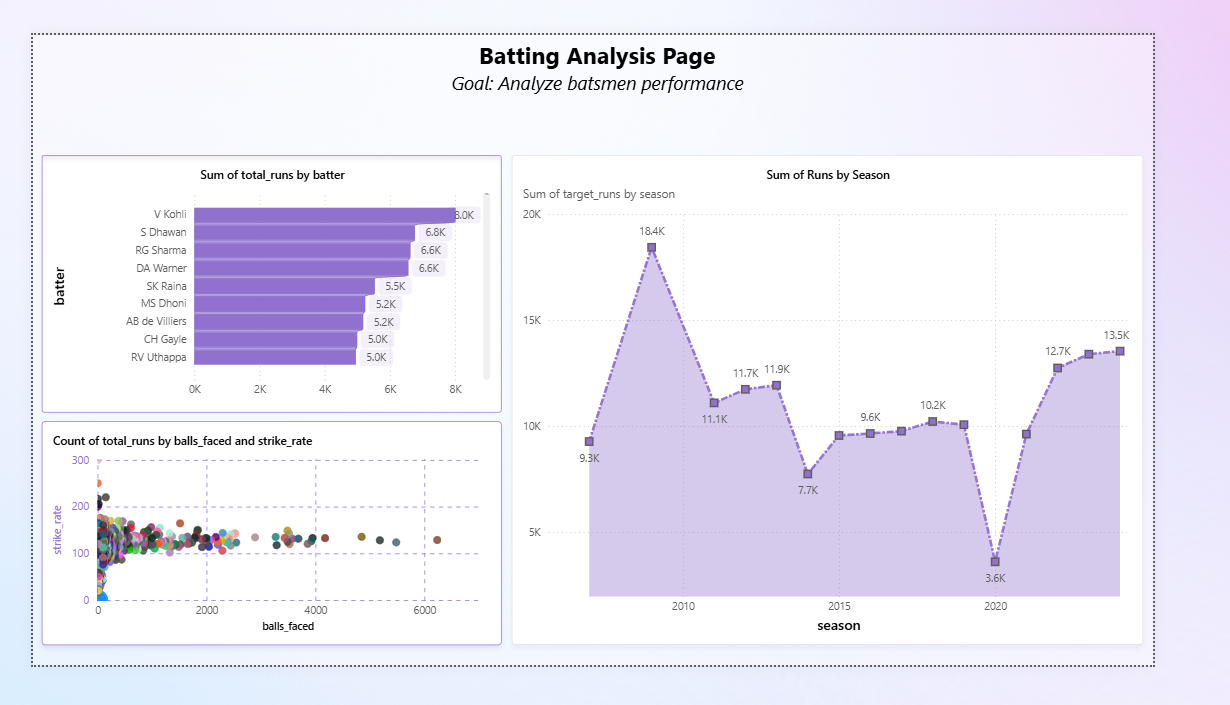

What the dashboard file says about the page in this screenshot:
{"tool":"powerbi","page":{"name":"Page 2","canvas":[1280,720],"ordinal":1},"visuals":[{"type":"textbox","box":[10,0,1270,117.1],"z":0},{"type":"barChart","fields":{"Category":["ipl_analytics batting_stats.batter"],"Y":["Sum(ipl_analytics batting_stats.total_runs)"]},"box":[10,137.1,525.7,294.3],"z":1000},{"type":"scatterChart","fields":{"X":["ipl_analytics batting_stats.balls_faced"],"Y":["ipl_analytics batting_stats.strike_rate"],"Size":["CountNonNull(ipl_analytics batting_stats.total_runs)"]},"box":[10,441.4,525.7,255.7],"z":2000},{"type":"lineChart","title":"Sum of Runs by Season","fields":{"Category":["ipl_analytics matches.season"],"Y":["Sum(ipl_analytics matches.target_runs)"]},"box":[547.1,137.1,721.4,560],"z":3000}]}

Visuals, with their boxes in screenshot pixels (x1, y1, x2, y2), scaled from the page's 1280x720 canvas onto the 1230x705 screenshot:
textbox: {"left": 10, "top": 0, "right": 1229, "bottom": 115}
barChart - ipl_analytics batting_stats.batter x Sum(ipl_analytics batting_stats.total_runs): {"left": 10, "top": 134, "right": 515, "bottom": 422}
scatterChart - ipl_analytics batting_stats.balls_faced x ipl_analytics batting_stats.strike_rate: {"left": 10, "top": 432, "right": 515, "bottom": 683}
"Sum of Runs by Season" lineChart: {"left": 526, "top": 134, "right": 1219, "bottom": 683}
